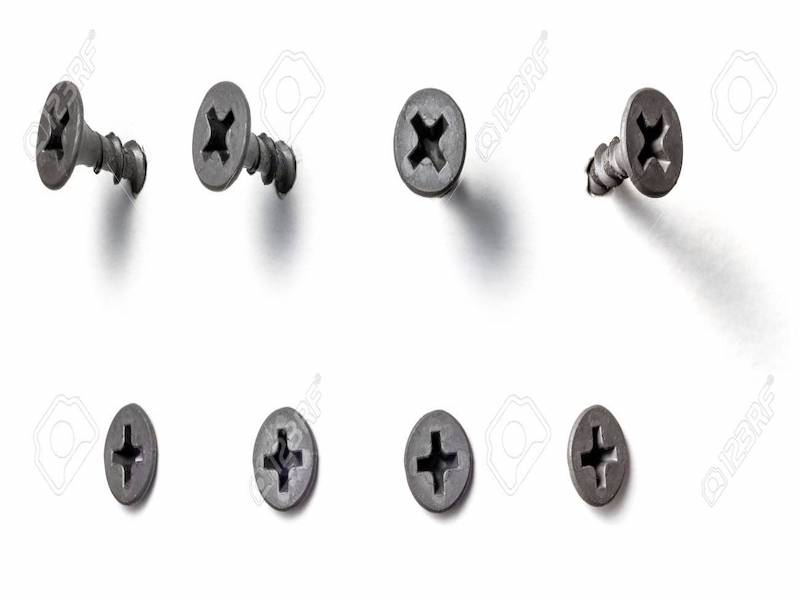screw: (28, 80, 153, 208), (190, 78, 301, 204), (579, 83, 688, 211), (387, 86, 471, 203), (401, 406, 476, 516), (250, 403, 322, 516), (565, 404, 632, 509), (101, 401, 164, 509)
